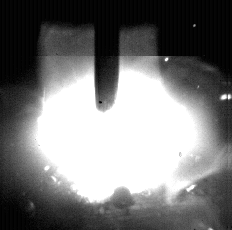arame: (95, 0, 121, 112)
poca: (35, 0, 200, 230)
